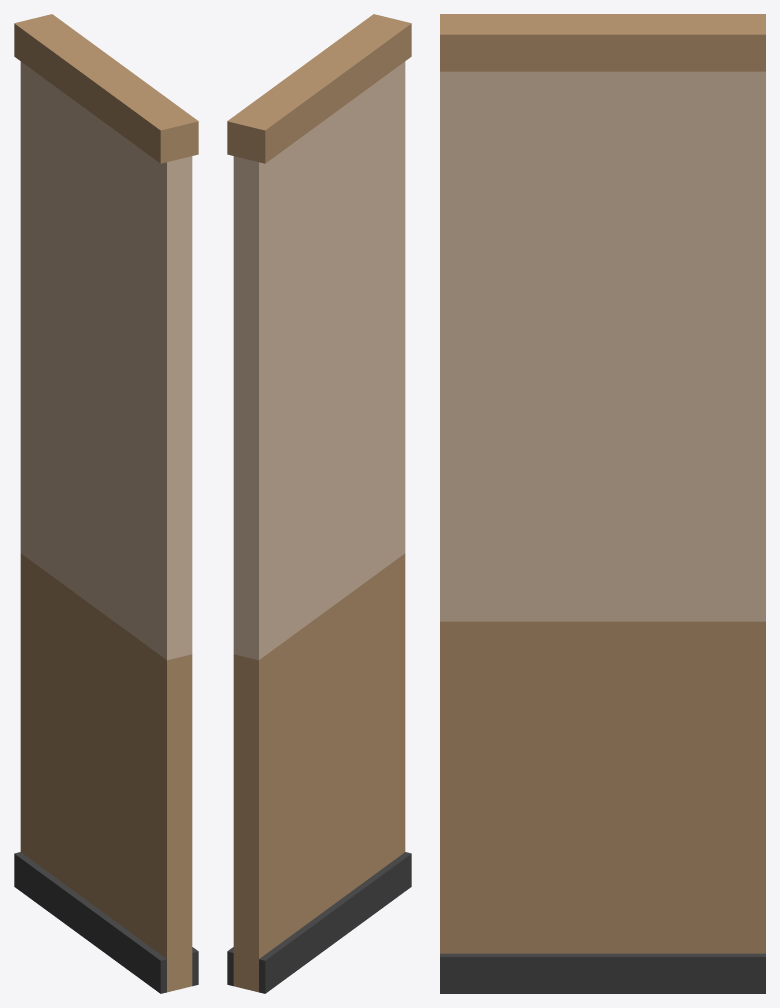
Rendered from wall_02_S.glb.
3 renders of one model, left to right at view 1: azimuth 30°, elevation 25°; view 2: azimuth 150°, elevation 25°; view 3: azimuth 270°, elevation 25°, orthographic. The views are drawn at different scales.
Parts seen in each view (by area): view 1: Untitled; view 2: Untitled; view 3: Untitled.
Part boxes in pixels (left/top/right/bottom): Untitled: left=14, top=14, right=198, bottom=993; Untitled: left=227, top=14, right=411, bottom=993; Untitled: left=440, top=14, right=765, bottom=993.
Bounding box in the file's own units: 0.18 × 3.9 × 1.2.
Materials: 1 (1 with a texture image).
